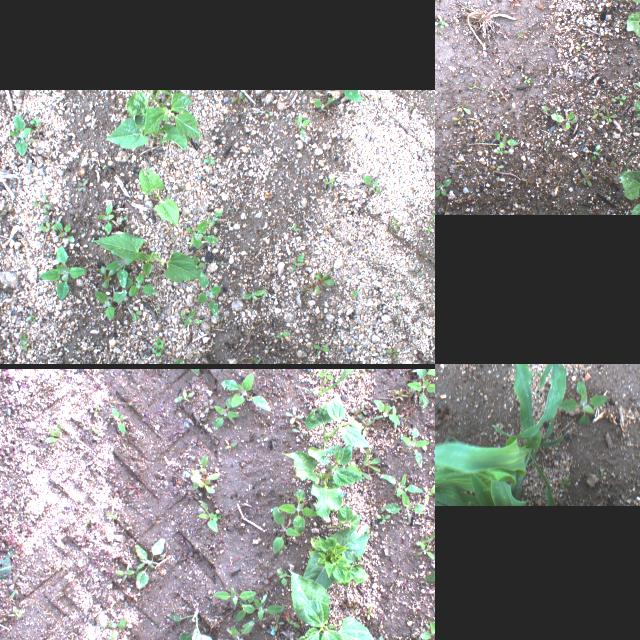crop: (435, 364, 568, 504), (288, 569, 379, 640), (280, 446, 364, 518), (106, 89, 202, 149), (92, 232, 204, 280), (306, 394, 372, 466), (304, 526, 370, 588), (139, 166, 179, 228), (325, 503, 369, 532), (619, 168, 640, 213), (624, 4, 640, 59)
weed: (38, 244, 86, 298), (559, 380, 607, 424), (220, 371, 270, 411), (299, 368, 357, 398), (133, 537, 165, 587), (280, 489, 316, 531), (380, 473, 424, 505), (167, 613, 215, 640), (271, 506, 299, 550), (400, 427, 430, 467), (196, 269, 220, 317), (408, 368, 435, 410), (104, 257, 138, 289), (212, 391, 240, 429), (96, 290, 128, 320), (186, 219, 218, 249), (119, 272, 158, 296), (215, 618, 257, 640), (382, 502, 424, 524), (547, 108, 581, 134), (10, 112, 30, 154), (198, 499, 222, 533), (373, 398, 402, 426), (245, 600, 285, 620), (492, 128, 522, 154), (448, 97, 474, 127), (214, 586, 256, 604), (588, 105, 622, 124), (576, 164, 596, 192), (98, 200, 114, 234), (314, 272, 336, 296), (360, 448, 382, 472), (435, 175, 455, 201), (484, 158, 511, 176), (235, 598, 255, 622), (100, 265, 118, 289), (181, 308, 205, 326), (32, 193, 52, 214), (294, 112, 310, 138), (190, 478, 216, 494), (109, 617, 127, 640), (44, 422, 64, 442), (56, 220, 74, 242), (111, 406, 125, 434), (589, 141, 605, 165), (364, 173, 381, 194), (608, 90, 630, 106), (435, 11, 451, 32), (421, 617, 435, 640), (174, 388, 196, 402), (194, 453, 208, 475), (36, 220, 60, 232), (206, 209, 222, 227), (570, 39, 594, 51), (285, 406, 301, 424), (316, 368, 334, 384), (419, 541, 435, 559), (143, 357, 184, 364), (291, 252, 305, 272), (314, 96, 334, 110), (5, 574, 25, 588), (115, 568, 135, 582), (390, 387, 410, 401), (427, 549, 435, 583), (312, 343, 330, 357), (270, 614, 284, 632), (126, 483, 144, 497), (240, 290, 264, 300), (275, 568, 287, 588), (321, 174, 335, 190), (286, 616, 302, 630), (0, 563, 13, 580), (344, 89, 362, 101), (80, 513, 92, 531), (424, 485, 435, 504), (18, 332, 28, 352), (425, 368, 435, 388), (76, 178, 90, 192), (0, 550, 13, 565), (420, 531, 435, 544), (286, 222, 302, 234), (522, 71, 534, 87), (293, 424, 309, 436), (376, 513, 392, 525), (386, 347, 400, 359), (260, 572, 274, 584), (83, 423, 99, 433), (203, 398, 213, 414), (362, 418, 372, 434), (204, 154, 216, 166), (10, 606, 22, 618), (364, 604, 372, 620), (100, 620, 116, 628), (346, 600, 356, 612), (208, 547, 220, 557), (223, 441, 237, 449), (273, 332, 291, 338), (350, 408, 362, 417), (203, 473, 220, 479), (561, 478, 571, 488), (105, 512, 117, 520), (421, 574, 429, 586), (252, 355, 262, 364), (94, 402, 100, 416), (362, 402, 368, 416), (9, 588, 17, 598), (427, 464, 435, 474), (432, 535, 435, 557), (190, 368, 200, 374), (188, 484, 196, 490), (394, 398, 400, 404), (264, 560, 268, 566), (128, 402, 134, 406), (380, 636, 386, 640)
